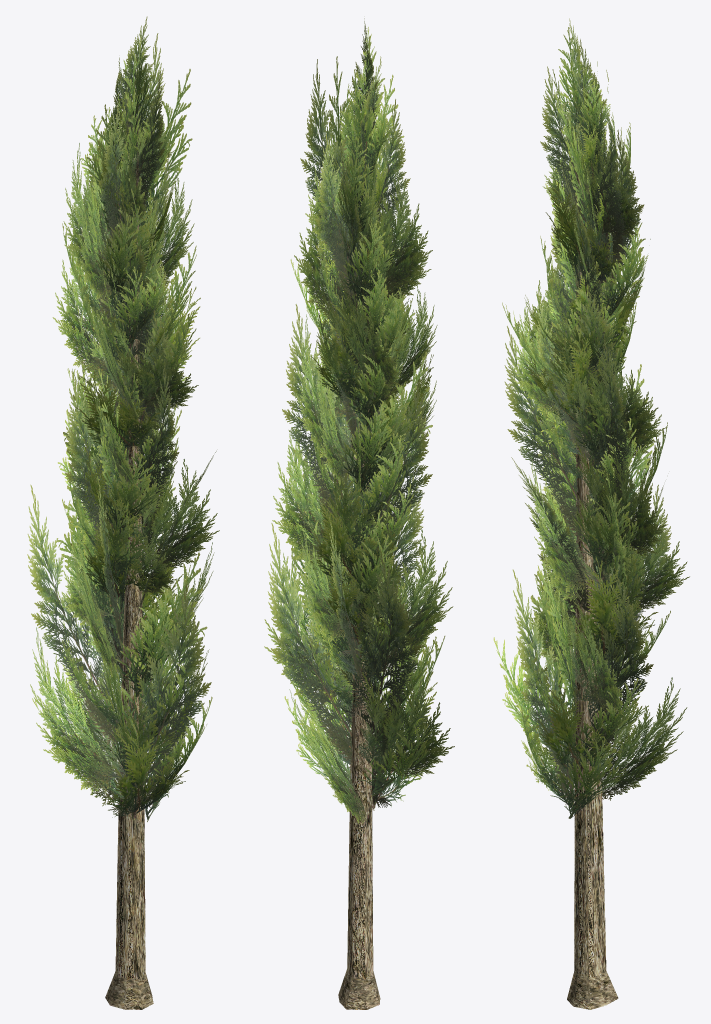
Rendered from LargelICTree.FBX.
3 renders of one model, left to right at view 1: azimuth 30°, elevation 25°; view 2: azimuth 150°, elevation 25°; view 3: azimuth 270°, elevation 25°, orthographic.
Visible parts, largest first — view 1: 00LBranch, TreeTrunk002; view 2: 00LBranch, TreeTrunk002; view 3: 00LBranch, TreeTrunk002.
Boxes of the visible parts, x1,y1,x2,y2 form: 00LBranch: [27, 16, 219, 821]; TreeTrunk002: [105, 105, 153, 1009]; 00LBranch: [264, 18, 454, 823]; TreeTrunk002: [338, 415, 380, 1009]; 00LBranch: [493, 18, 689, 818]; TreeTrunk002: [567, 107, 618, 1009].
Size of the model in its own units: 25.26 by 125 by 23.8.
